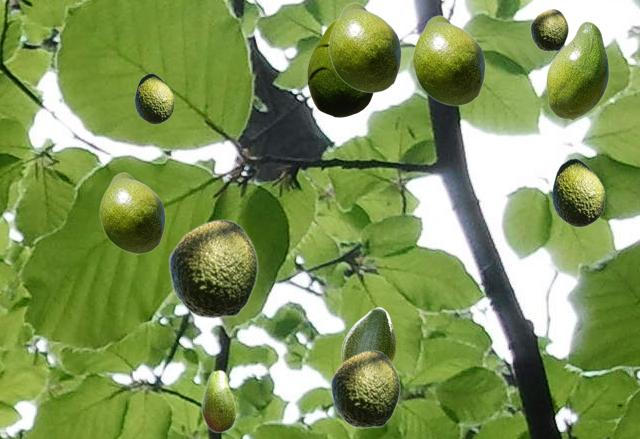avocado: (168, 219, 257, 317), (412, 15, 484, 105), (328, 2, 400, 92), (307, 19, 373, 116), (546, 21, 608, 119), (330, 350, 399, 427), (99, 172, 164, 253), (551, 158, 604, 226), (341, 307, 394, 362), (201, 369, 235, 432), (134, 73, 173, 123), (530, 9, 567, 50)
